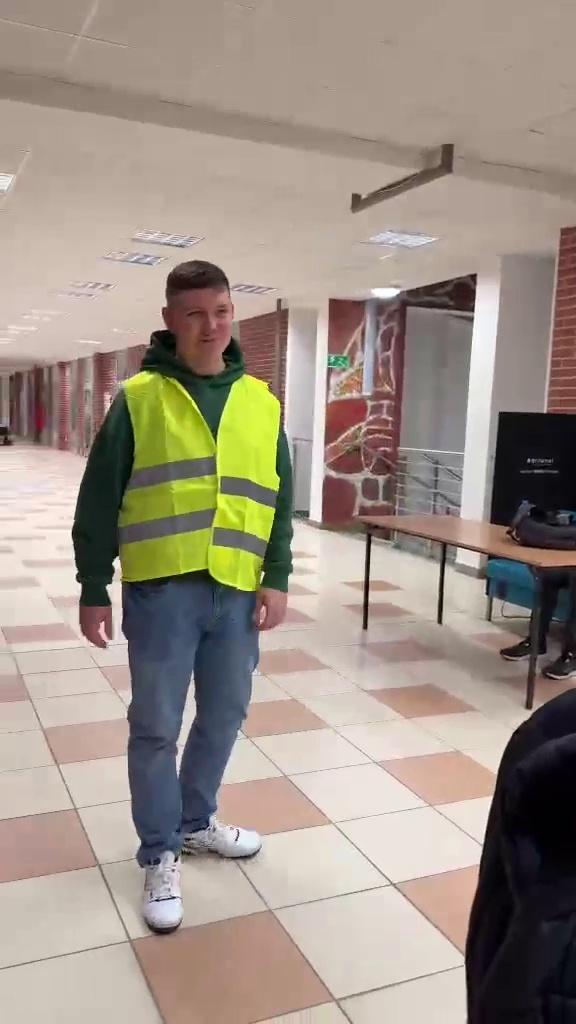vest: (63, 263, 301, 956)
